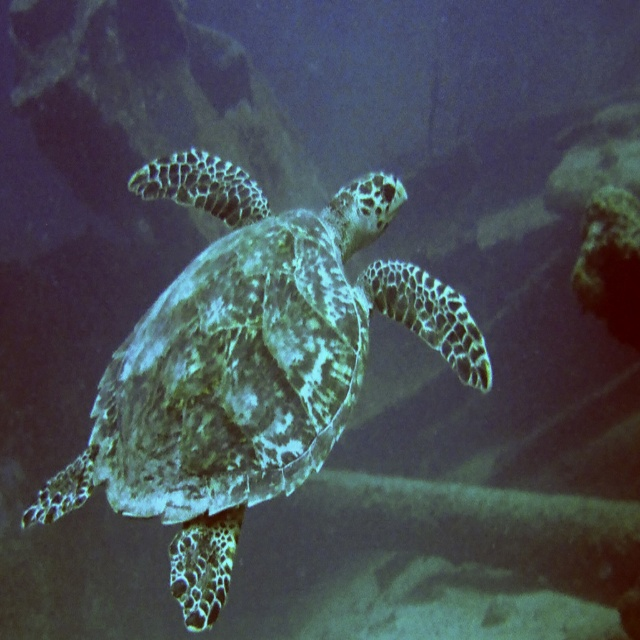Sea turtle: (22, 147, 491, 631)
